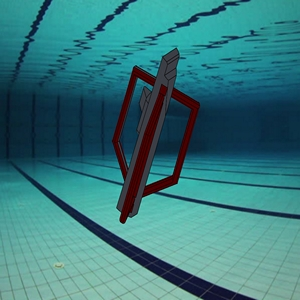submarine: (94, 39, 213, 232)
